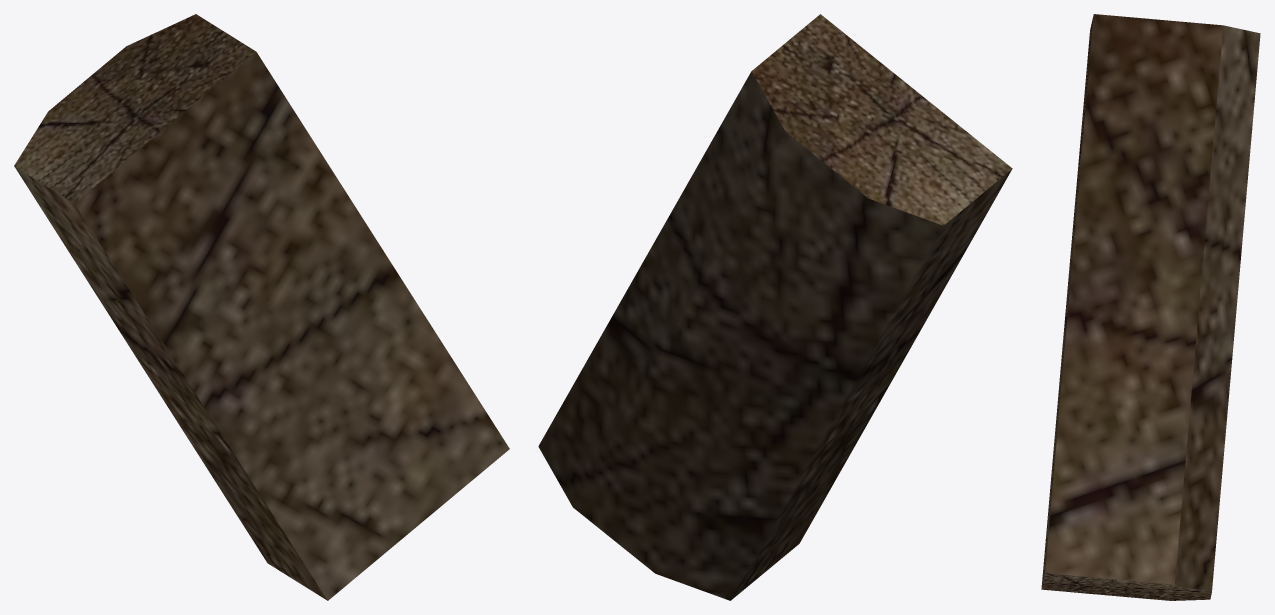
File: DREWIENKO2.glb
3 renders of one model, left to right at view 1: azimuth 30°, elevation 25°; view 2: azimuth 150°, elevation 25°; view 3: azimuth 270°, elevation 25°, orthographic. The views are drawn at different scales.
Visible parts, largest first — view 1: DREWIENKO2; view 2: DREWIENKO2; view 3: DREWIENKO2.
Boxes of the visible parts, left/top/right/bottom form: DREWIENKO2: left=14, top=14, right=509, bottom=600; DREWIENKO2: left=538, top=14, right=1012, bottom=600; DREWIENKO2: left=1041, top=14, right=1260, bottom=600.
Bounding box in the file's own units: 0.332 × 0.4197 × 0.1481.
1 material, 1 textured.
